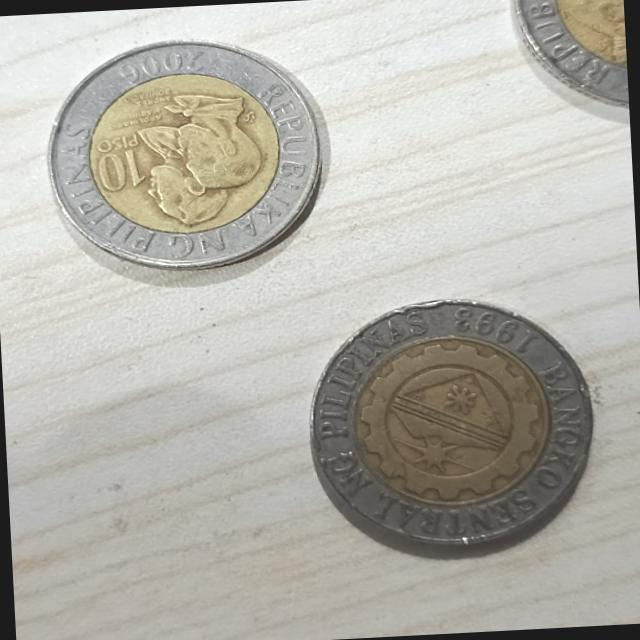10_peso: (311, 300, 591, 545), (49, 42, 319, 269)
